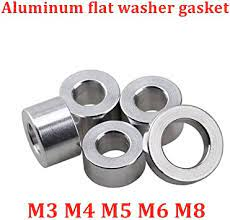No thread: (158, 114, 211, 170), (92, 128, 138, 162), (128, 81, 170, 115), (67, 76, 109, 109), (22, 122, 52, 159)
